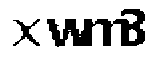3: (119, 6, 154, 53)
m: (83, 17, 129, 51)
w: (43, 16, 88, 49)
x: (7, 16, 41, 51)
